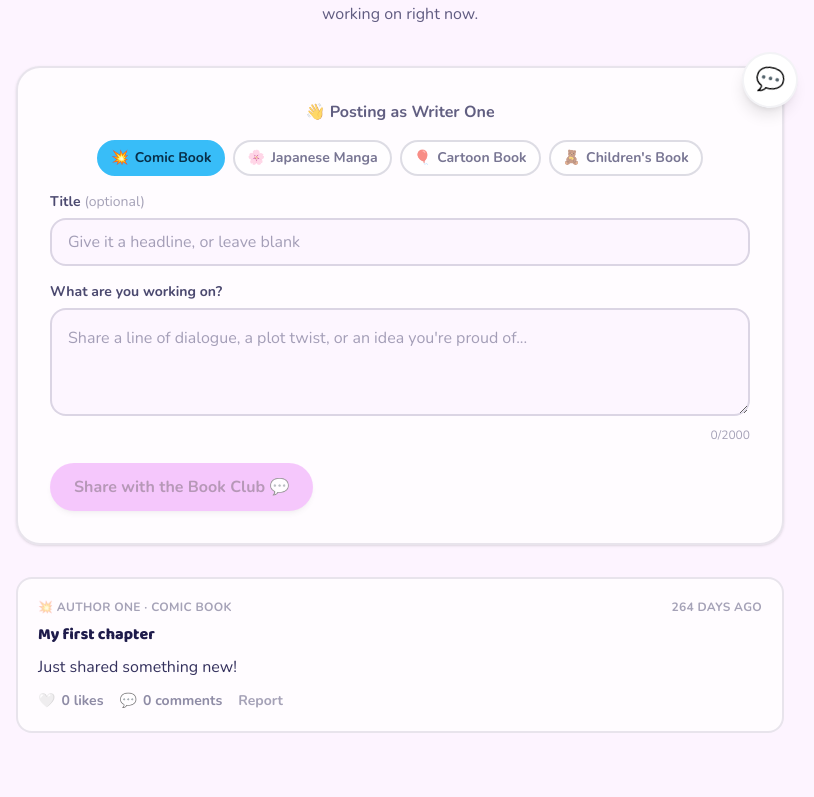
Test case: Community › posts a comment via the Server Action and shows it in the thread
This screenshot has width=814, height=797.
(page scrolled)
Step 1. Click the button "💬 0 comments" → (171, 701), box [120,691,222,711]
(page scrolled)
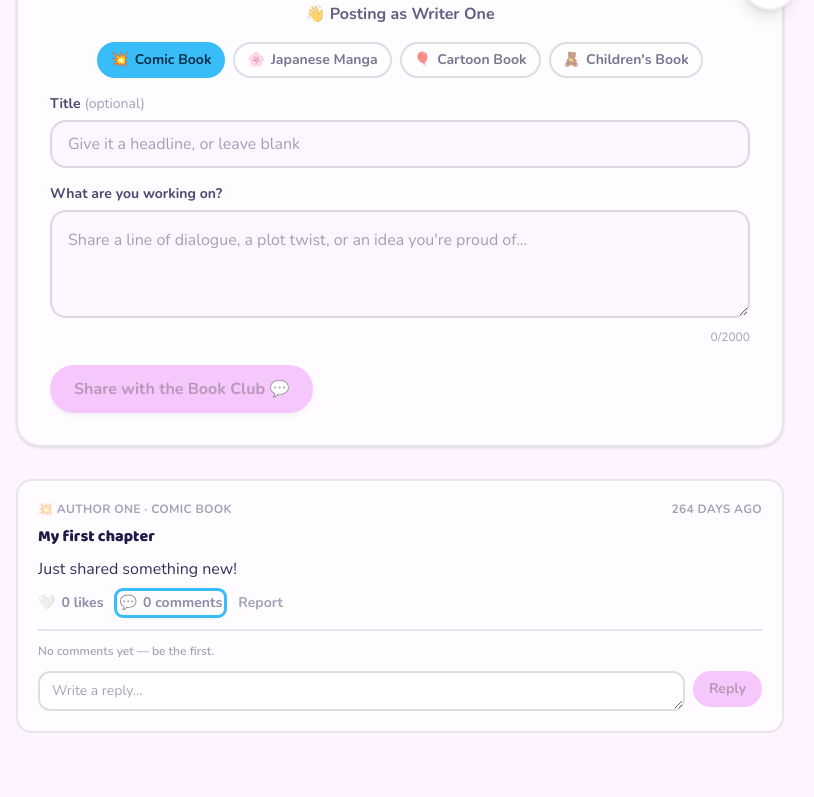
Step 2. Type "Nice work!" into the text box with placeholder "Write a reply…" → (361, 691), box [38,671,685,711]
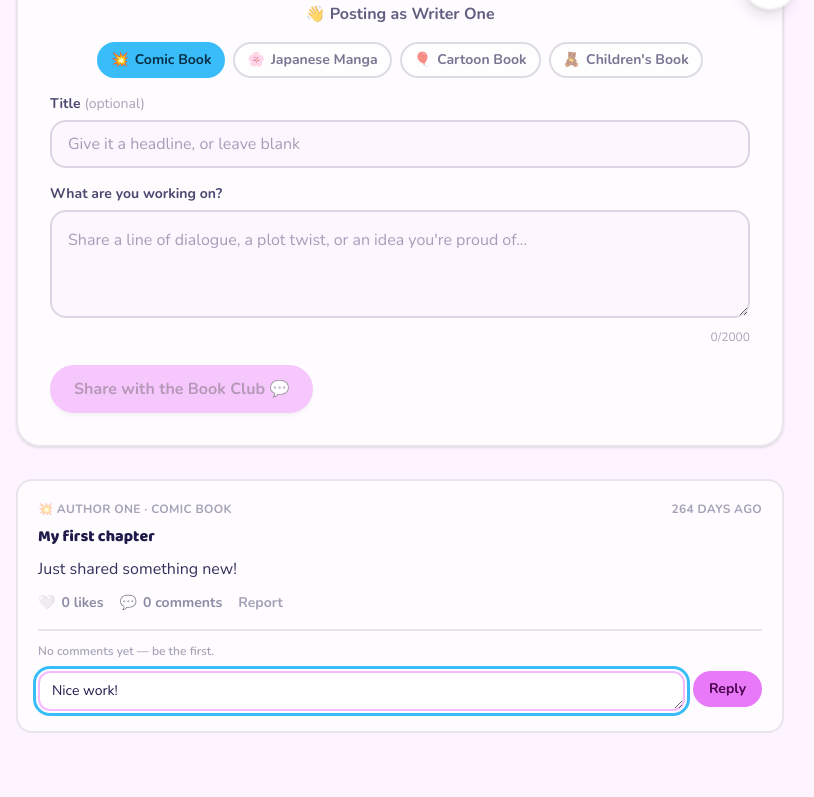
Step 3. Click the button "Reply" → (727, 689), box [693,671,762,707]
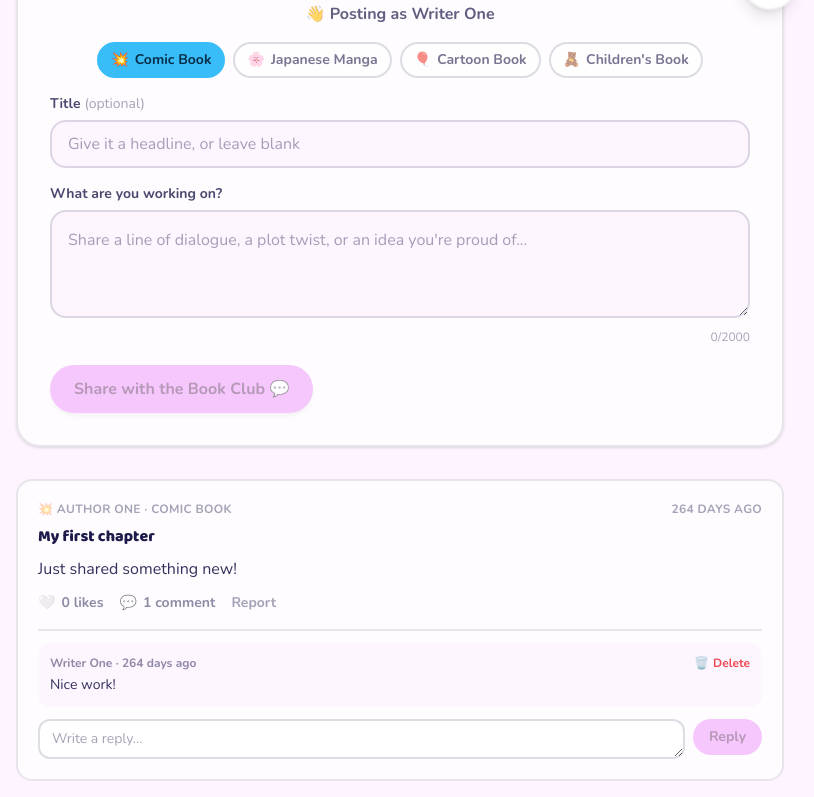
Expected: the text "Nice work!" is shown, [50,675,116,694]
